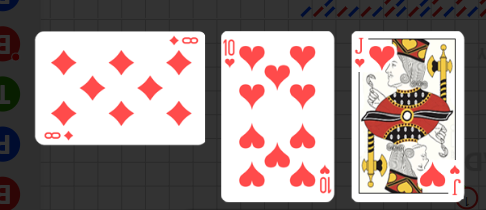10H: (318, 164, 333, 196), (224, 39, 238, 70)
8D: (44, 130, 76, 142)
